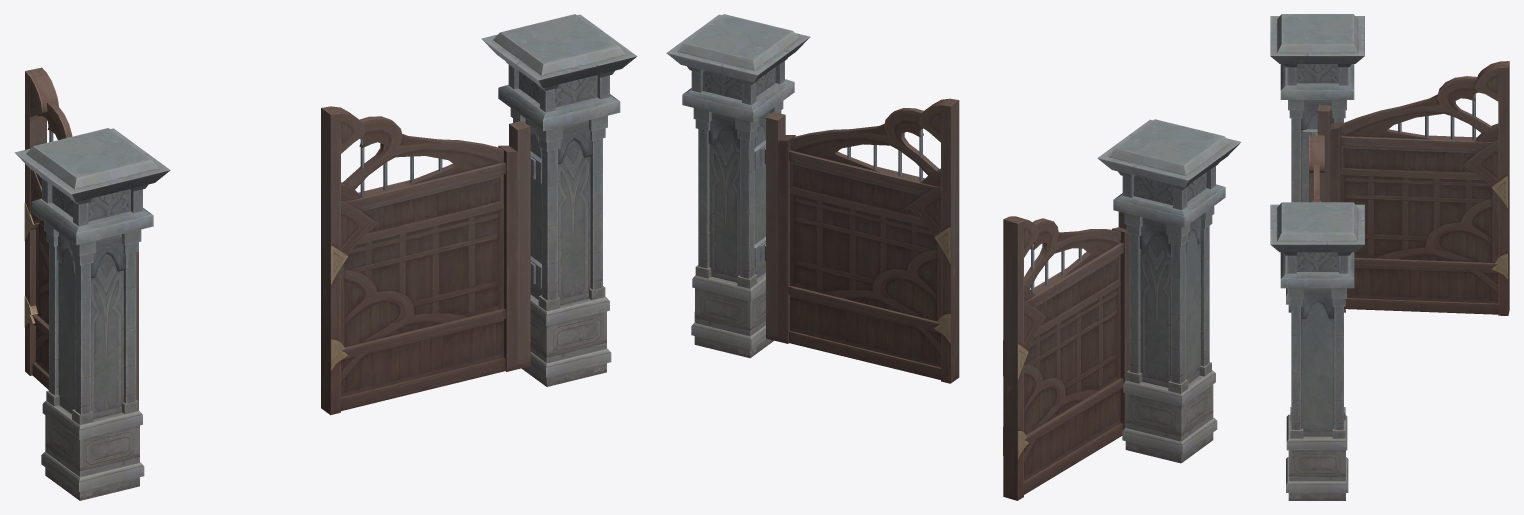
Rendered from Homeworld_Exterior_Md_Build_MainDoor_01_Lod0.fbx.
3 views of the same model, side by side, from view 1: azimuth 30°, elevation 25°; view 2: azimuth 150°, elevation 25°; view 3: azimuth 270°, elevation 25° (orthographic). The views are drawn at different scales.
Parts seen in each view (by area): view 1: Homeworld_Exterior_Md_Build_MainDoor_01_Lod0; view 2: Homeworld_Exterior_Md_Build_MainDoor_01_Lod0; view 3: Homeworld_Exterior_Md_Build_MainDoor_01_Lod0.
Part boxes in pixels (box(x1,y1,x2,y2)): Homeworld_Exterior_Md_Build_MainDoor_01_Lod0: box(14, 14, 637, 500); Homeworld_Exterior_Md_Build_MainDoor_01_Lod0: box(666, 14, 1240, 500); Homeworld_Exterior_Md_Build_MainDoor_01_Lod0: box(1270, 14, 1509, 500).
Bounding box in the file's own units: 9.38 × 5.19 × 4.16.
Materials: 1 (1 with a texture image).
